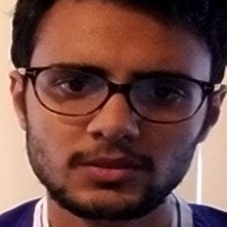awake: (43, 47, 193, 198)
